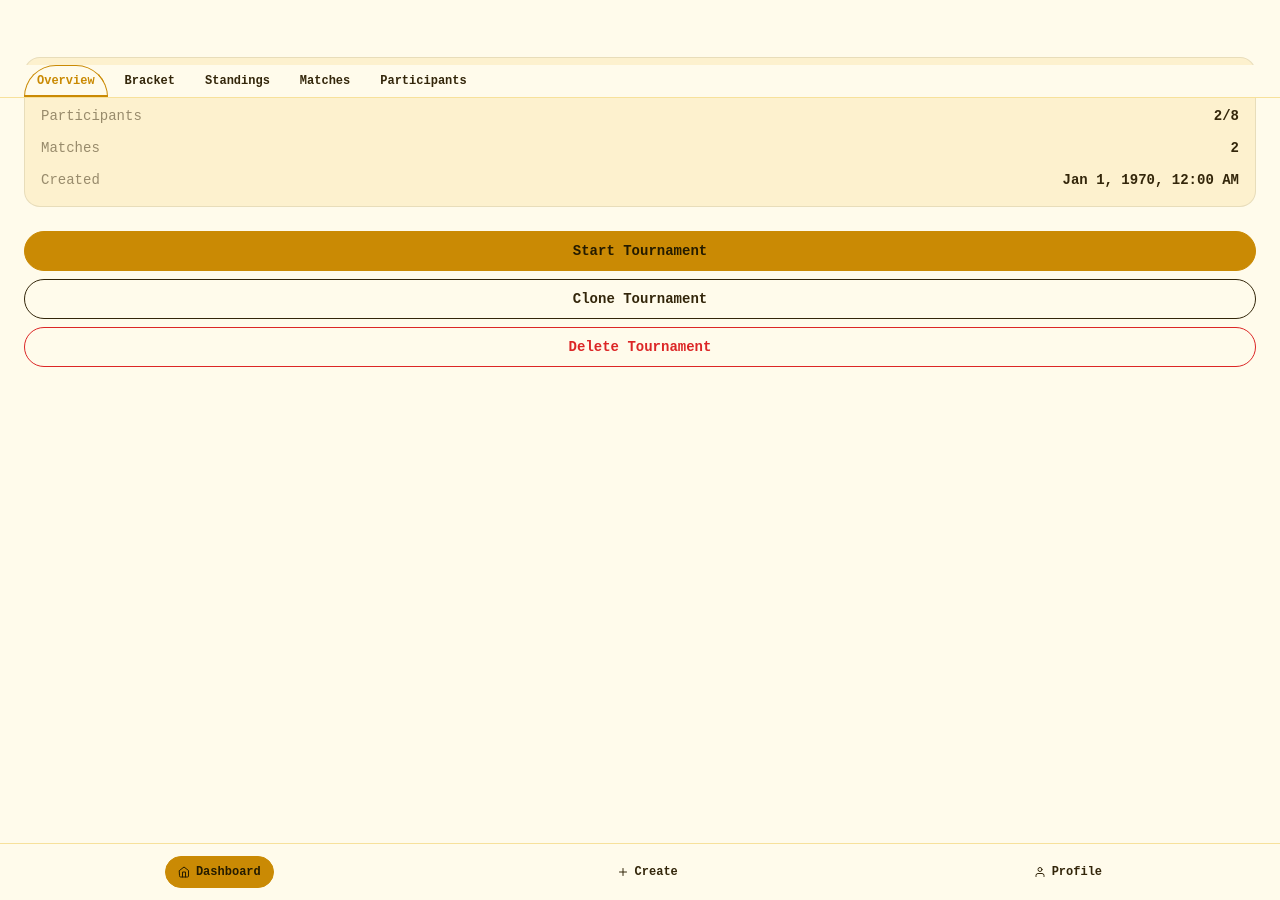
Test case: TournamentDetailPage › renders a round-robin bracket with fallbacks
Click the button "Bracket".
click(150, 81)  # box [112,65,188,97]
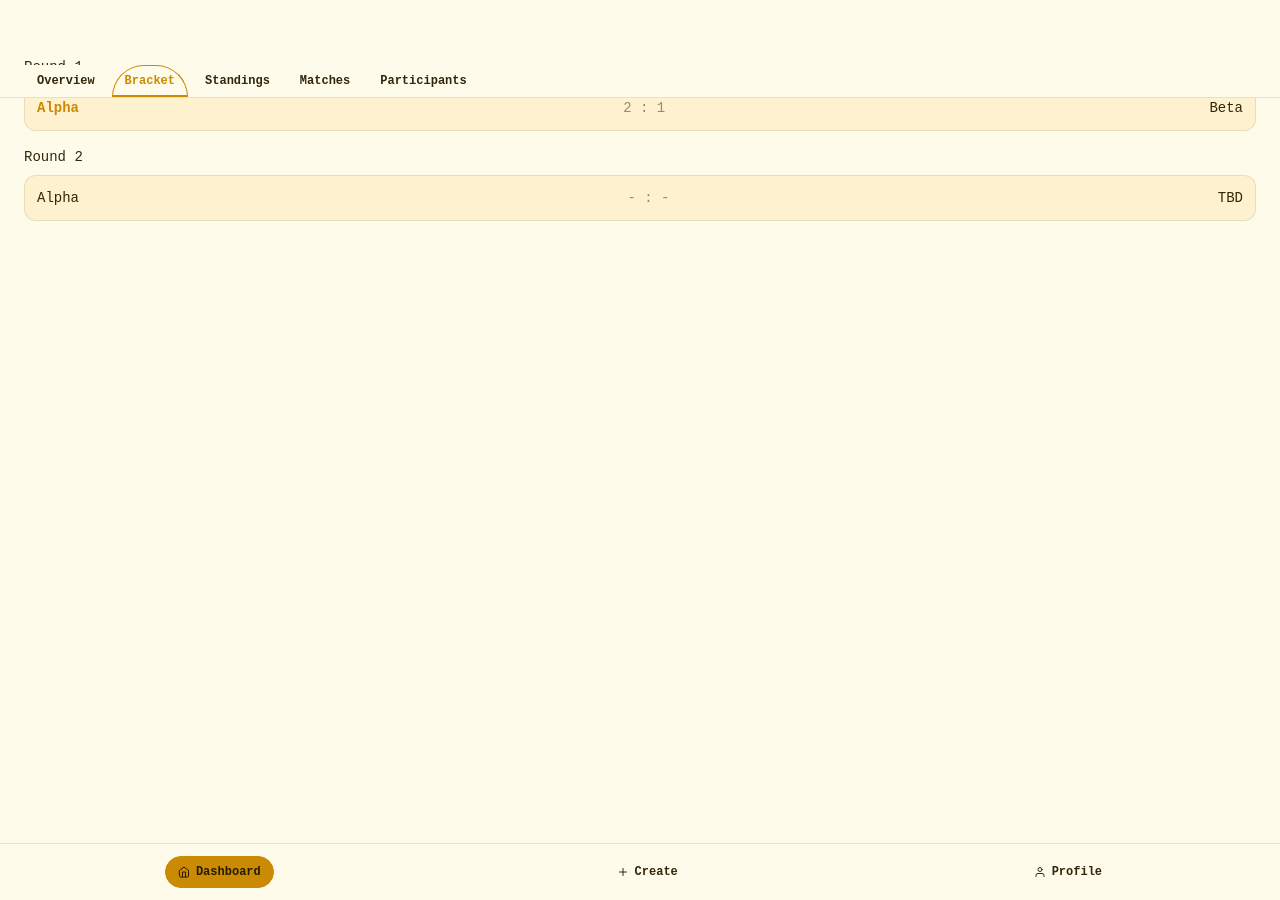
Expected: the heading "Round 1" is shown, [24,59,83,75]
Expected: the heading "Round 2" is shown, [24,149,83,165]
Expected: the text "TBD" is shown, [1218,188,1243,208]
